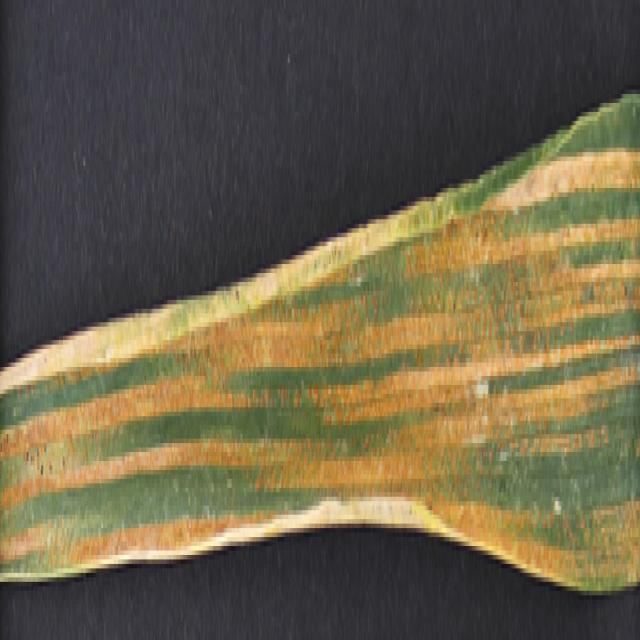leaf rust: (0, 121, 638, 609)
